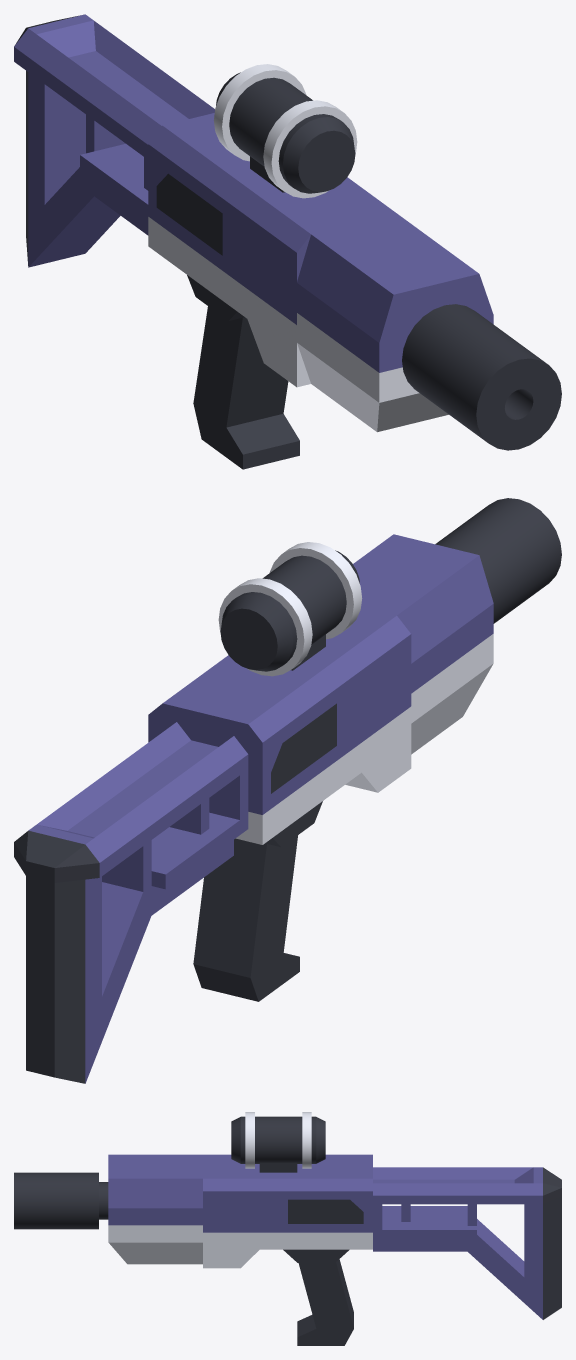
The model's file is pistola 1.fbx.
3 renders of one model, top to bottom at view 1: azimuth 30°, elevation 25°; view 2: azimuth 150°, elevation 25°; view 3: azimuth 270°, elevation 25°, orthographic. The views are drawn at different scales.
Visible parts, largest first — view 1: mergedBlocks; view 2: mergedBlocks; view 3: mergedBlocks.
Boxes of the visible parts, box(x1,y1,x2,y2) form: mergedBlocks: box(14, 14, 561, 469); mergedBlocks: box(14, 498, 561, 1083); mergedBlocks: box(14, 1112, 561, 1345).
Bounding box in the file's own units: 4 × 13 × 29.
